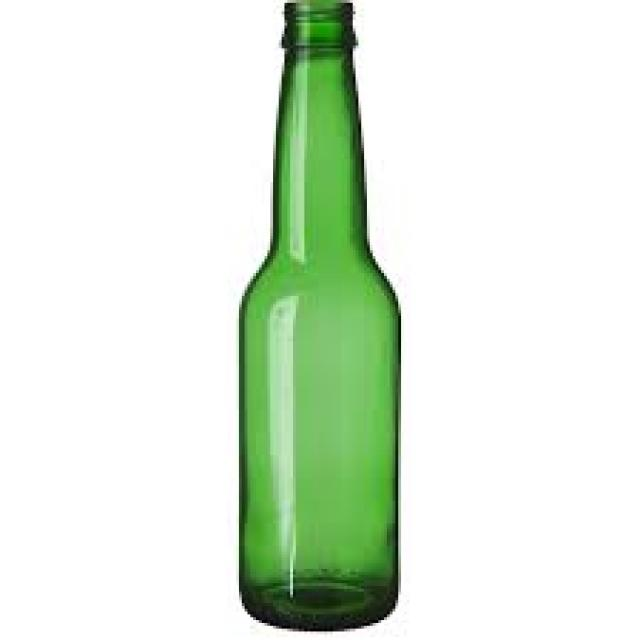glass: (236, 0, 398, 629)
